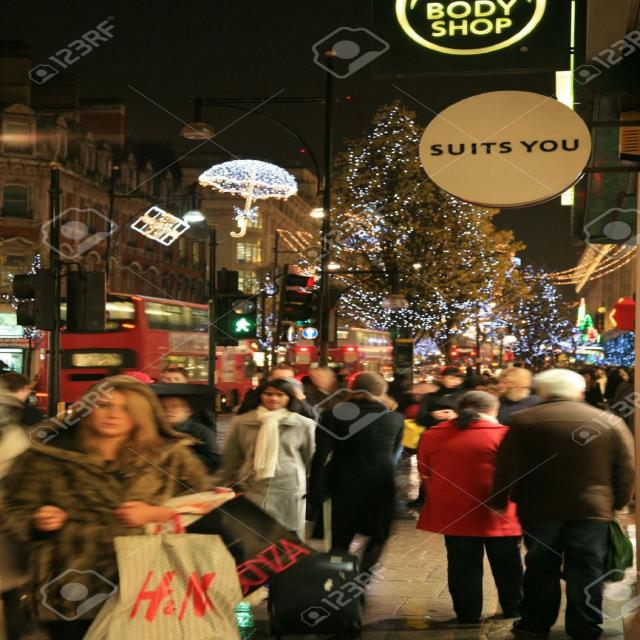body: (0, 372, 225, 639), (478, 366, 639, 639), (412, 389, 528, 630), (309, 370, 406, 588), (218, 377, 321, 546), (0, 359, 47, 639), (456, 361, 638, 426), (411, 366, 477, 512), (229, 350, 457, 379), (385, 371, 429, 515), (154, 390, 224, 476), (495, 367, 548, 428), (236, 365, 298, 415), (291, 365, 346, 419), (160, 365, 192, 383)
